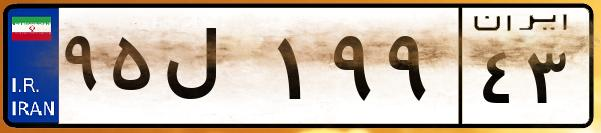1: (270, 28, 330, 110)
3: (525, 38, 570, 115)
4: (475, 38, 525, 113)
5: (110, 28, 158, 98)
9: (385, 28, 445, 110), (330, 28, 385, 110), (57, 26, 110, 100)
ل: (158, 20, 270, 120)
